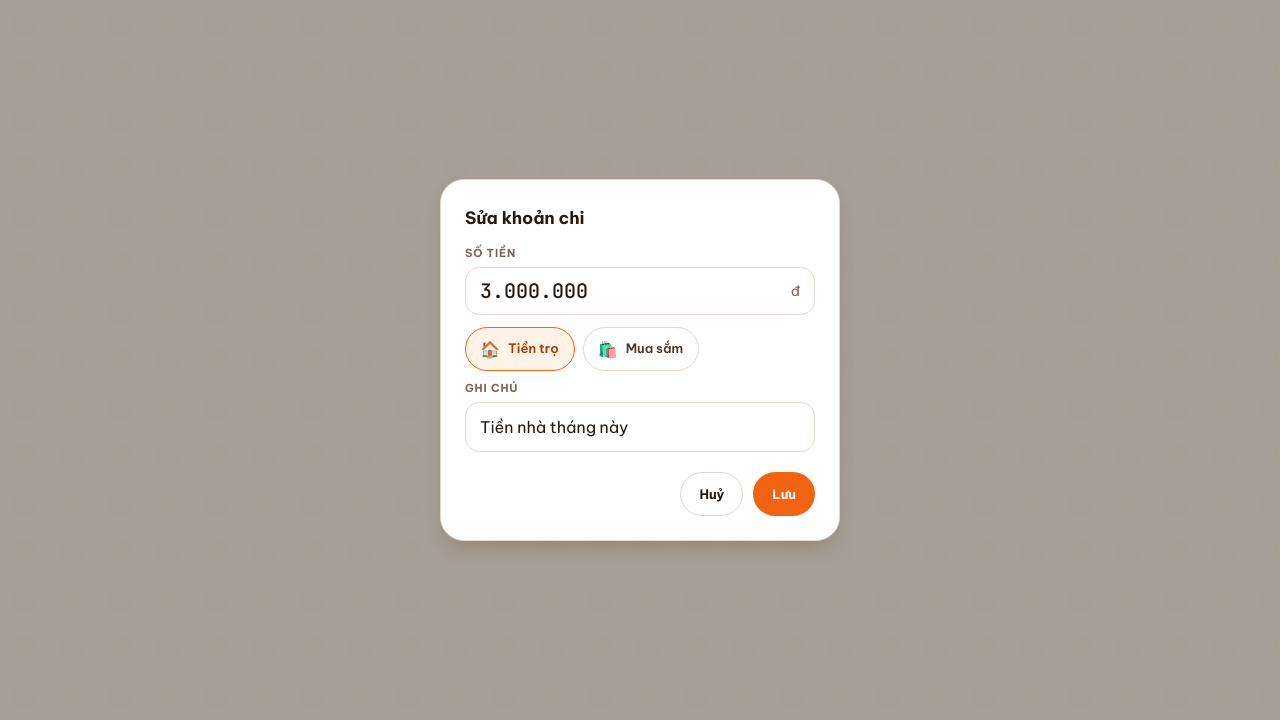
EditExpenseModal › disables Lưu when the amount is cleared to zero
The width and height of the screenshot is (1280, 720).
Clear the field labelled "Số tiền". click: x=631, y=291
box: [480, 268, 783, 314]
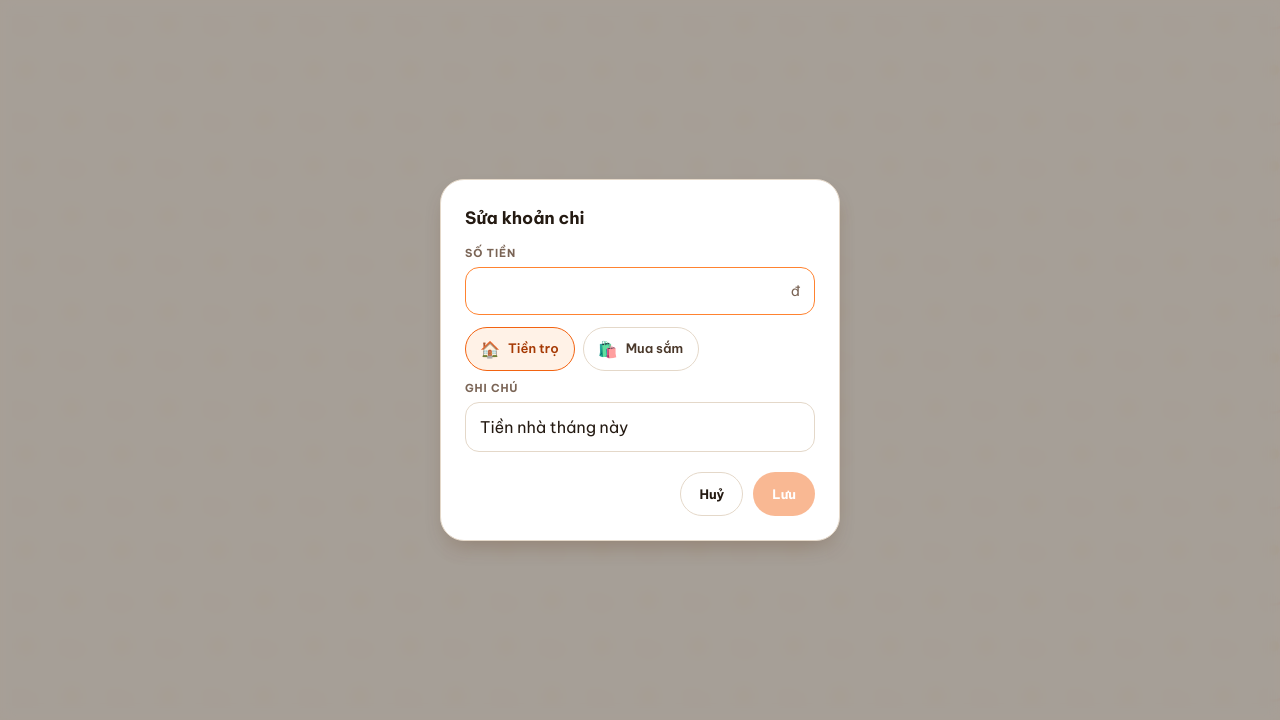
expect the button "Lưu" is disabled: met, box [753, 472, 815, 516]
